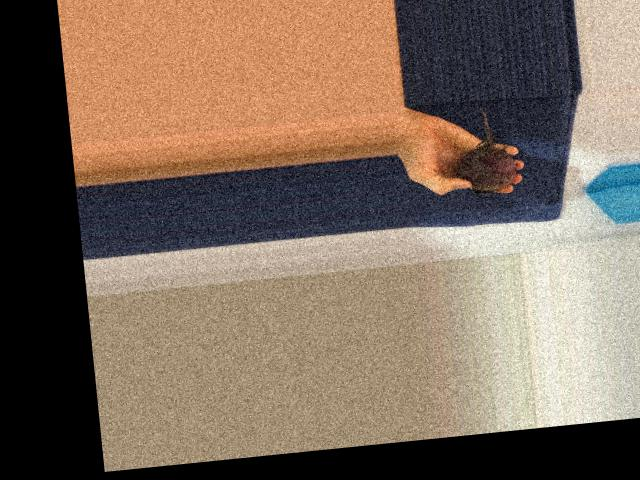beet: (452, 103, 519, 200)
